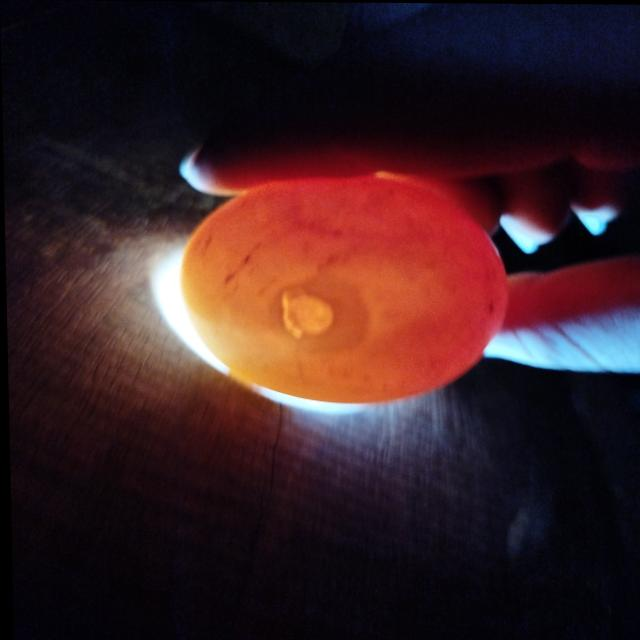Camara de Ar: (267, 280, 369, 355)
Rachadura: (281, 292, 332, 338)
